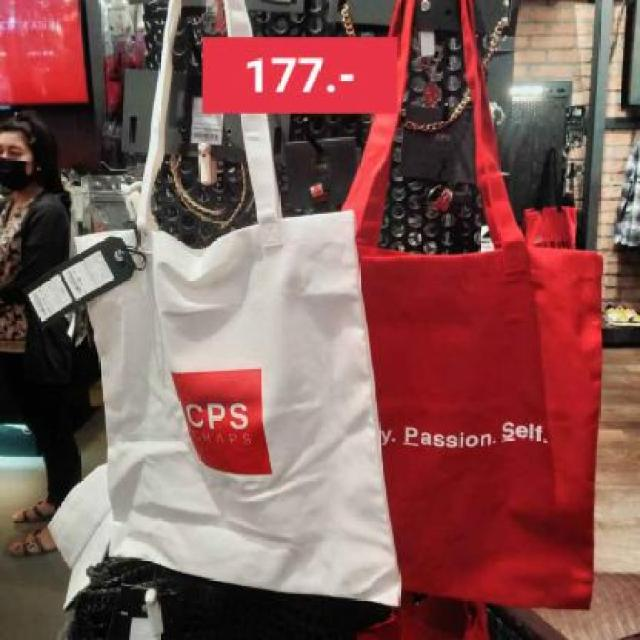Bag: (36, 0, 430, 609), (348, 0, 630, 628)
